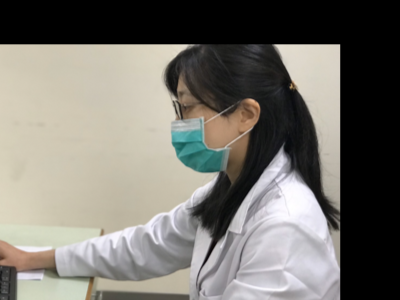with_mask: (171, 86, 237, 172)
